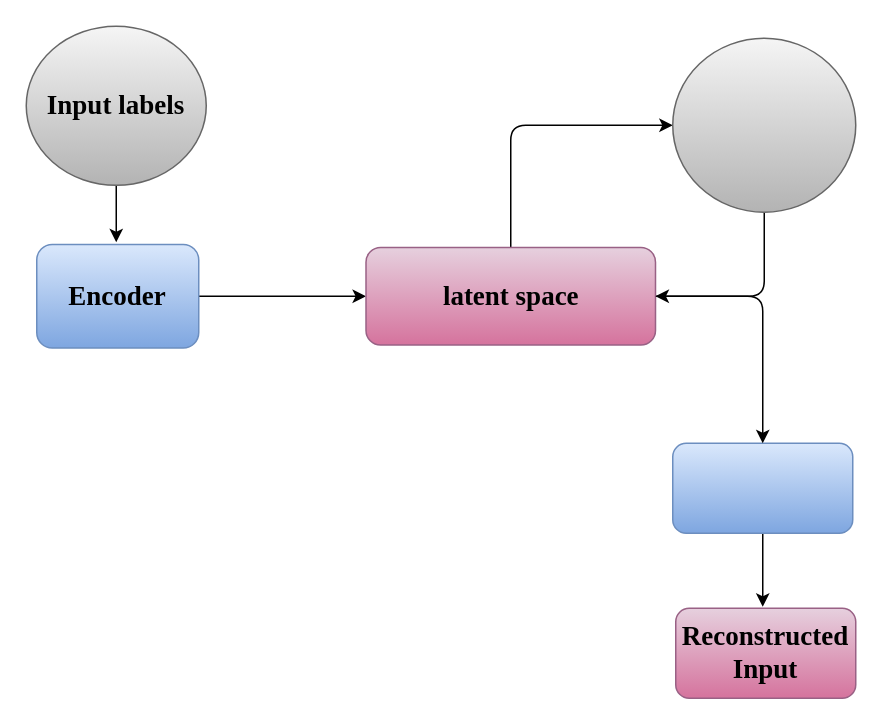
This 882x725 diagram has some shape labels left out. The centre of each missing label's shape, as x and y in pixels:
Decoder: point 762,487
Tissue classifier: point 763,124
